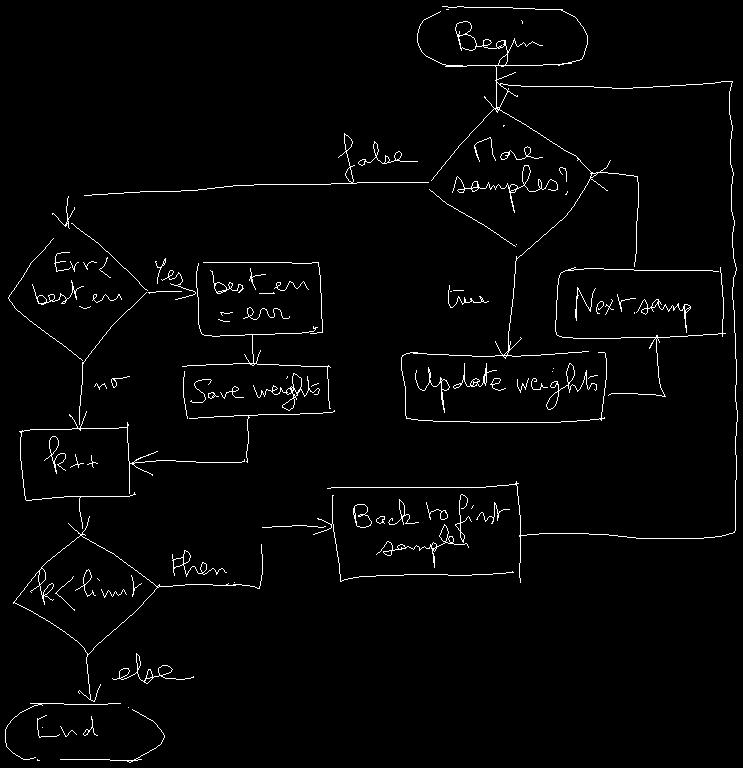arrow: (495, 72, 737, 538), (52, 182, 428, 228), (158, 518, 331, 588), (129, 416, 249, 475), (590, 160, 638, 266), (608, 335, 665, 396), (495, 256, 521, 358), (69, 362, 86, 430), (484, 65, 508, 112), (78, 655, 100, 701), (68, 497, 89, 534), (148, 285, 195, 299), (244, 334, 260, 365)
decision: (429, 107, 592, 259), (8, 223, 147, 364), (13, 534, 160, 658)
process: (327, 481, 520, 582), (401, 351, 606, 422), (555, 267, 725, 338), (196, 262, 322, 336), (19, 422, 135, 500), (182, 363, 334, 418)
terminator: (417, 6, 587, 66), (5, 703, 164, 762)
text: (353, 494, 509, 567), (452, 125, 567, 212), (415, 363, 597, 412), (210, 268, 308, 321), (575, 287, 690, 332), (32, 252, 121, 308), (190, 373, 319, 410), (30, 568, 141, 610), (455, 20, 542, 66), (338, 133, 417, 182), (112, 653, 193, 683), (44, 436, 97, 473), (172, 550, 226, 576), (37, 715, 97, 737), (448, 285, 488, 307), (155, 258, 182, 285), (94, 376, 129, 389)
